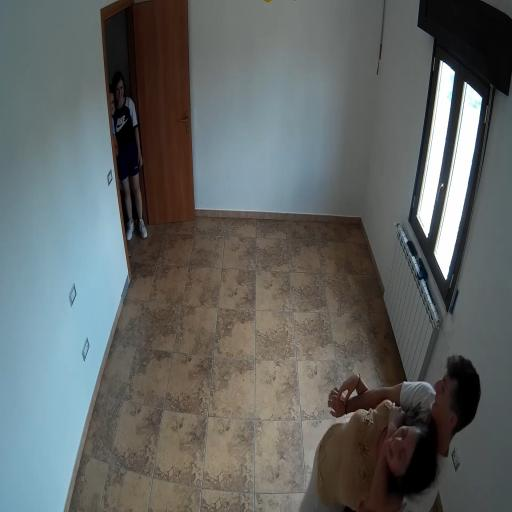violencia: (292, 341, 490, 512)
